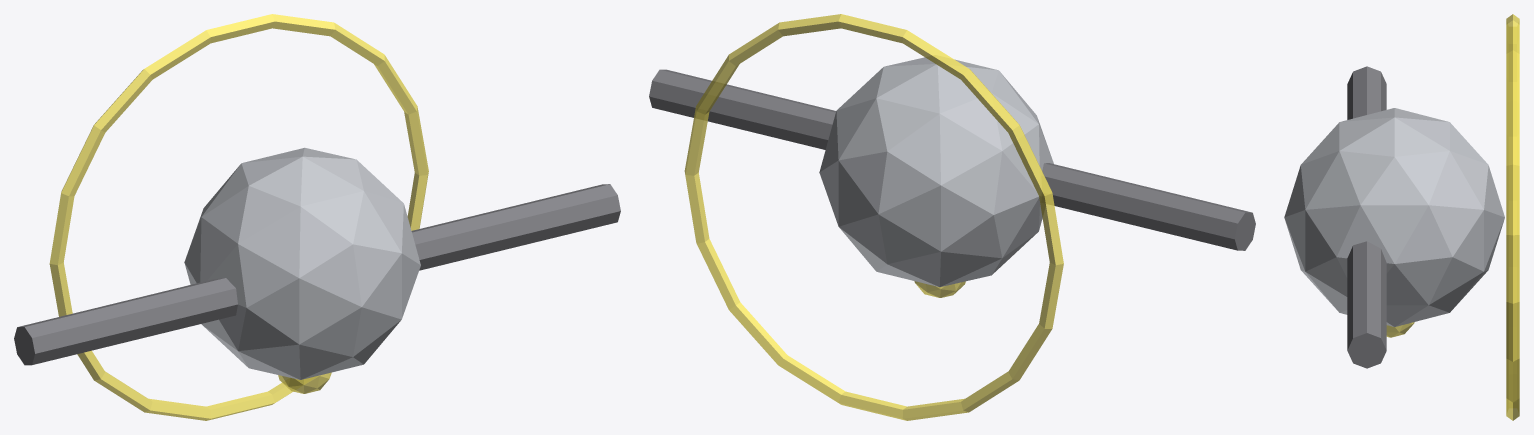
The model's file is drone_dock_station.glb.
The picture shows the model from 3 angles, left to right: view 1: azimuth 30°, elevation 25°; view 2: azimuth 150°, elevation 25°; view 3: azimuth 270°, elevation 25°; orthographic projection. The views are drawn at different scales.
Parts seen in each view (by area): view 1: drone_body, hover_ring, rotor_l, rotor_r, eye; view 2: drone_body, hover_ring, rotor_l, rotor_r; view 3: drone_body, hover_ring, rotor_r, rotor_l, eye.
Part boxes in pixels (bbox=[...]): drone_body: bbox=[184, 147, 420, 379]; hover_ring: bbox=[49, 14, 428, 420]; rotor_l: bbox=[14, 278, 237, 365]; rotor_r: bbox=[411, 184, 620, 270]; eye: bbox=[278, 372, 331, 393]; drone_body: bbox=[819, 57, 1053, 287]; hover_ring: bbox=[684, 14, 1063, 420]; rotor_l: bbox=[1042, 163, 1255, 250]; rotor_r: bbox=[649, 69, 836, 149]; drone_body: bbox=[1284, 108, 1504, 326]; hover_ring: bbox=[1506, 14, 1519, 420]; rotor_r: bbox=[1347, 241, 1386, 368]; rotor_l: bbox=[1347, 66, 1386, 119]; eye: bbox=[1386, 322, 1414, 337].
Bounding box in the file's own units: 1.6 × 1.02 × 0.5971.
